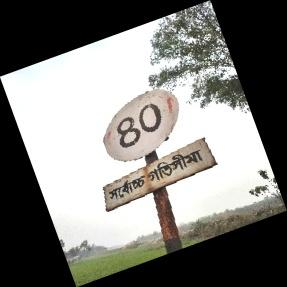Speed-limit: (101, 88, 215, 213)
